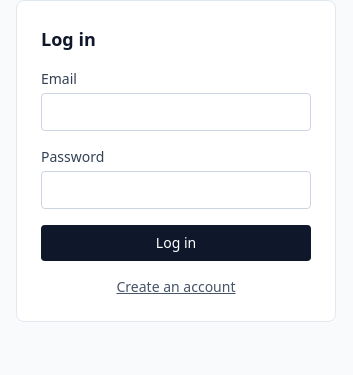
LoginForm › shows an error and does not navigate when login fails
The width and height of the screenshot is (353, 375).
Type "sam@example.com" into the field labelled "Email" at (176, 112), box x1=41 y1=93 x2=311 y2=131
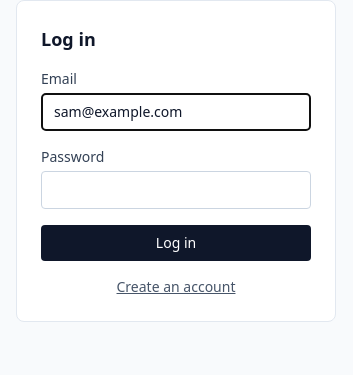
Type "wrong" into the password field labelled "Password" at (176, 190), box x1=41 y1=171 x2=311 y2=209
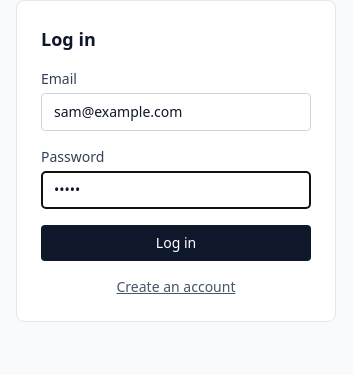
Click the button "Log in" at (176, 243), box x1=41 y1=225 x2=311 y2=261
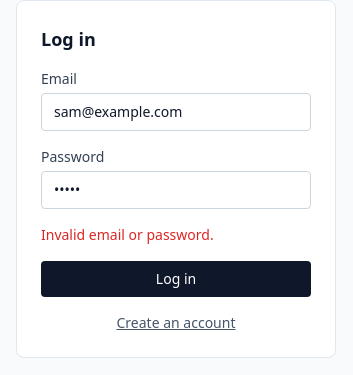
Check: the message "Invalid email or password." is shown, box x1=41 y1=225 x2=214 y2=244
